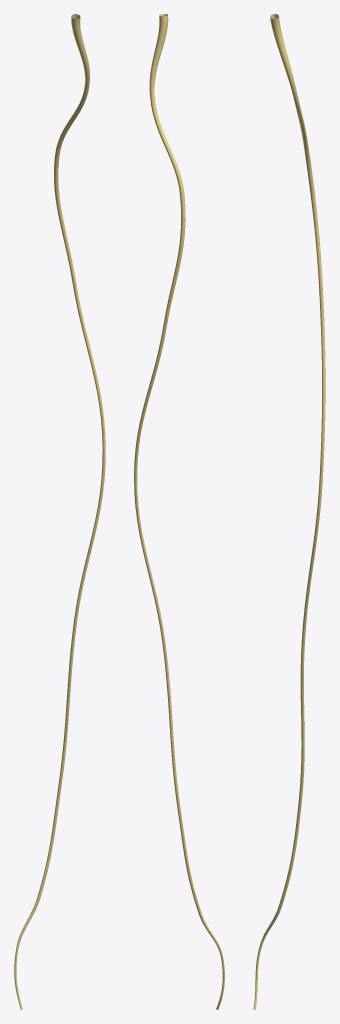
The picture shows the model from 3 angles, left to right: view 1: azimuth 30°, elevation 25°; view 2: azimuth 210°, elevation 25°; view 3: azimuth 330°, elevation 25°; orthographic projection. The views are drawn at different scales.
Parts seen in each view (by area): view 1: ZA_8c99086546f923b6; view 2: ZA_8c99086546f923b6; view 3: ZA_8c99086546f923b6.
Part boxes in pixels (bbox=[...]): ZA_8c99086546f923b6: bbox=[14, 14, 105, 1009]; ZA_8c99086546f923b6: bbox=[134, 14, 224, 1009]; ZA_8c99086546f923b6: bbox=[253, 14, 325, 1009].
Size of the model in its own units: 0.0398 by 0.483 by 0.0281.
